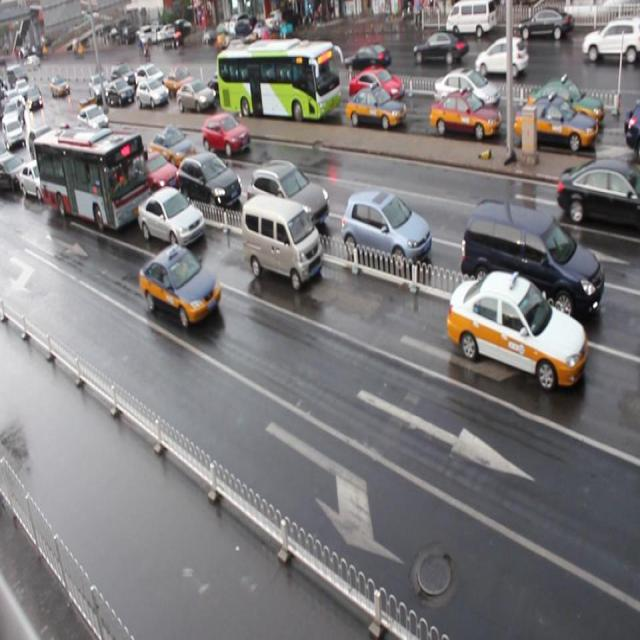car: (446, 268, 586, 389), (340, 189, 430, 273), (139, 242, 221, 329), (557, 159, 640, 233), (248, 160, 329, 233), (513, 96, 594, 152), (139, 184, 205, 250), (177, 150, 242, 210), (532, 80, 609, 130), (428, 92, 499, 140), (433, 66, 501, 112), (345, 86, 404, 132), (134, 146, 180, 194), (349, 66, 398, 108), (202, 114, 248, 157), (148, 128, 194, 166), (20, 157, 57, 201), (86, 134, 124, 173), (176, 81, 216, 115), (36, 130, 66, 170), (1, 152, 28, 194), (78, 102, 109, 137), (137, 80, 168, 110), (28, 128, 55, 162), (165, 66, 195, 93), (209, 72, 237, 100), (105, 77, 134, 104), (135, 61, 163, 88)
truck: (462, 196, 604, 327), (240, 194, 324, 288)
van: (34, 125, 154, 234), (218, 39, 340, 117)
